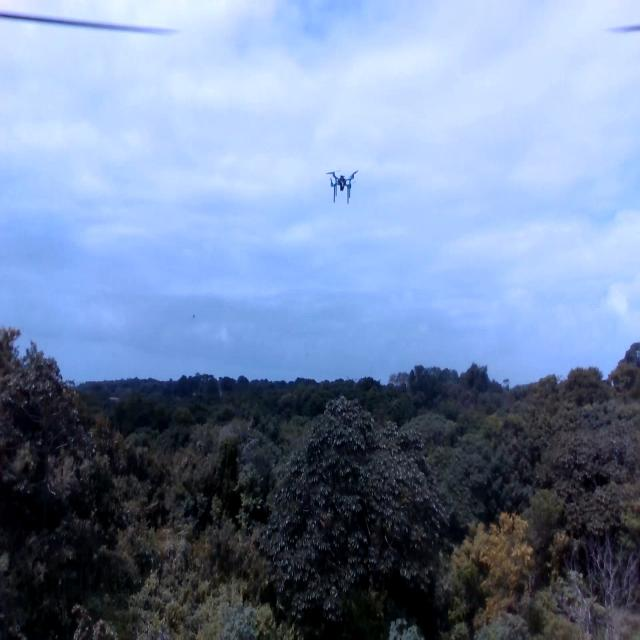-uav-: (319, 152, 367, 226)
